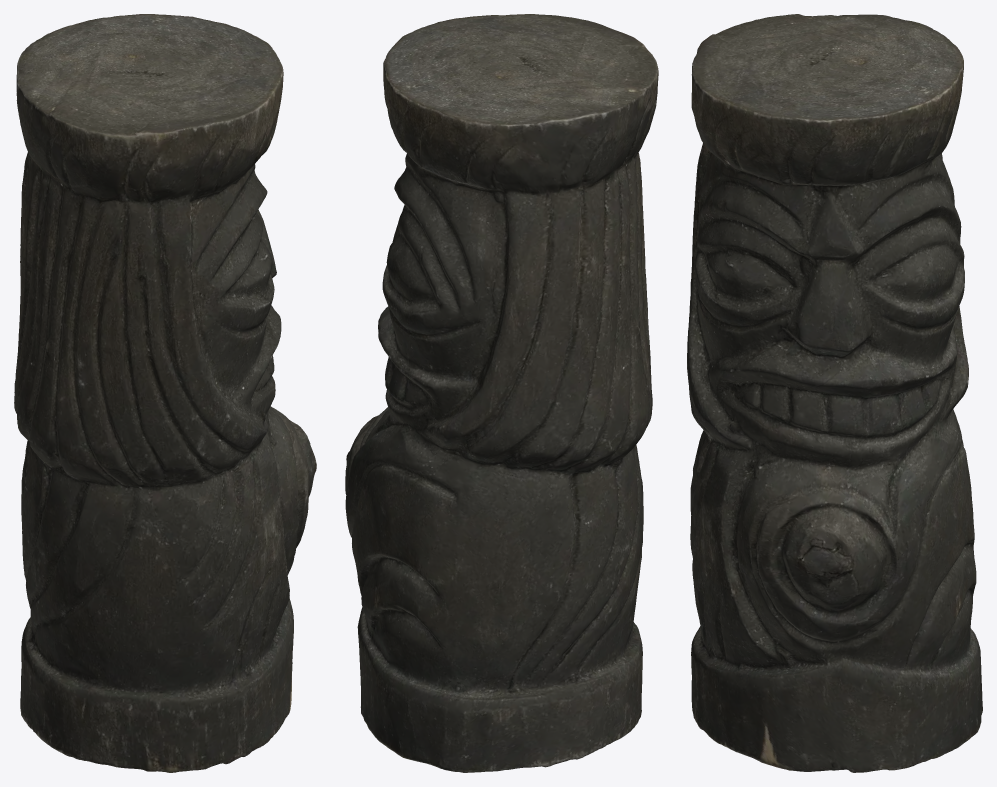
The model's file is preview.glb.
The picture shows the model from 3 angles, left to right: view 1: azimuth 30°, elevation 25°; view 2: azimuth 150°, elevation 25°; view 3: azimuth 270°, elevation 25°; orthographic projection.
Visible parts, largest first — view 1: Model_material0_0; view 2: Model_material0_0; view 3: Model_material0_0.
Part boxes in pixels (x1=…): Model_material0_0: x1=14, y1=14, x2=316, y2=772; Model_material0_0: x1=345, y1=14, x2=658, y2=772; Model_material0_0: x1=687, y1=14, x2=982, y2=772.
Size of the model in its own units: 113 by 253 by 103.
Materials: 1 (1 with a texture image).
